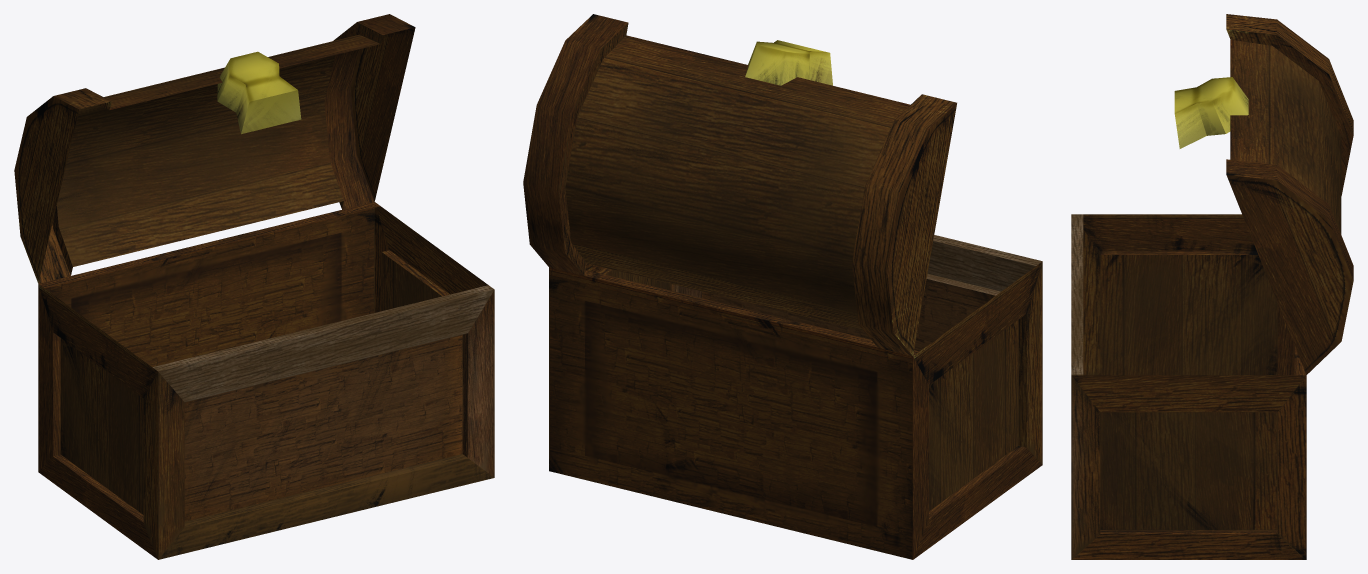
Rendered from openChest.obj.
3 renders of one model, left to right at view 1: azimuth 30°, elevation 25°; view 2: azimuth 150°, elevation 25°; view 3: azimuth 270°, elevation 25°, orthographic. The views are drawn at different scales.
Parts seen in each view (by area): view 1: polySurface20; view 2: polySurface20; view 3: polySurface20.
Boxes of the visible parts, x1,y1,x2,y2 form: polySurface20: (14,14,494,559); polySurface20: (523,14,1042,559); polySurface20: (1071,14,1353,559).
Size of the model in its own units: 1.99 by 2.28 by 1.47.
Materials: 1 (1 with a texture image).
